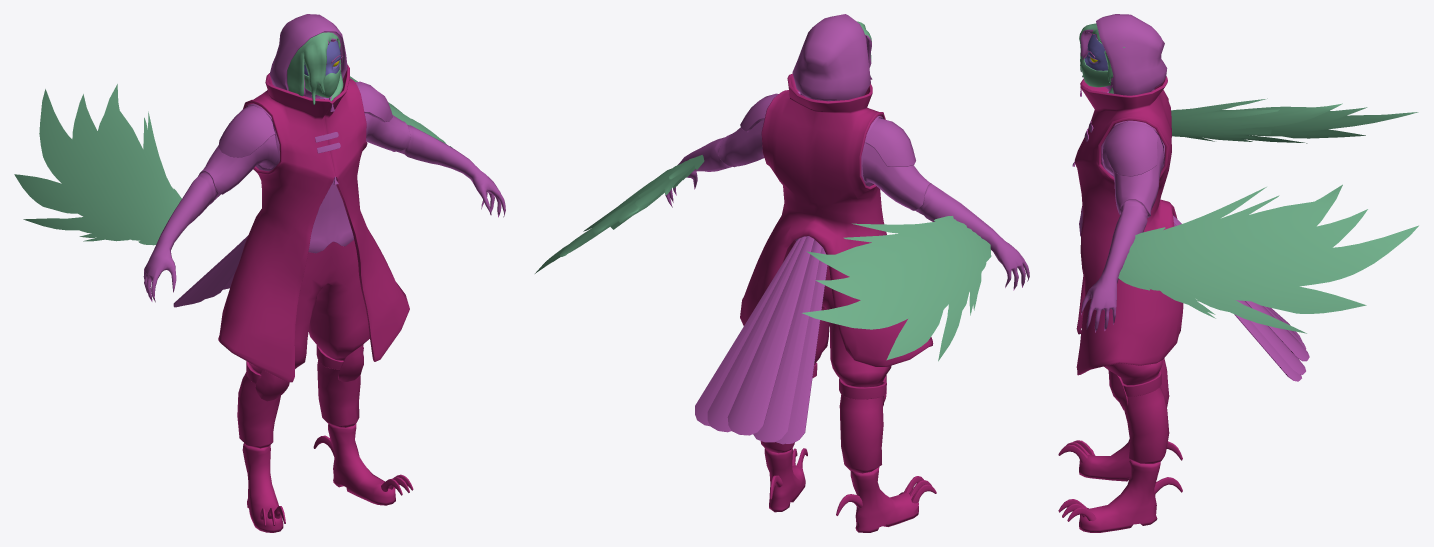
Rendered from KuoBackFaceTest.fbx.
3 views of the same model, side by side, from view 1: azimuth 30°, elevation 25°; view 2: azimuth 150°, elevation 25°; view 3: azimuth 270°, elevation 25° (orthographic).
Parts seen in each view (by area): view 1: kuoRig_v1_3:model:kuo_faceMask; view 2: kuoRig_v1_3:model:kuo_faceMask; view 3: kuoRig_v1_3:model:kuo_faceMask.
Boxes of the visible parts, box(x1,y1,x2,y2) form: kuoRig_v1_3:model:kuo_faceMask: box(14, 14, 505, 532); kuoRig_v1_3:model:kuo_faceMask: box(535, 14, 1029, 532); kuoRig_v1_3:model:kuo_faceMask: box(1058, 14, 1418, 532).
Size of the model in its own units: 242 by 287 by 194.
